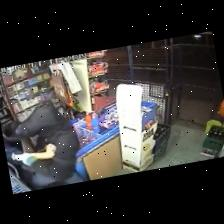person: (4, 100, 82, 189)
